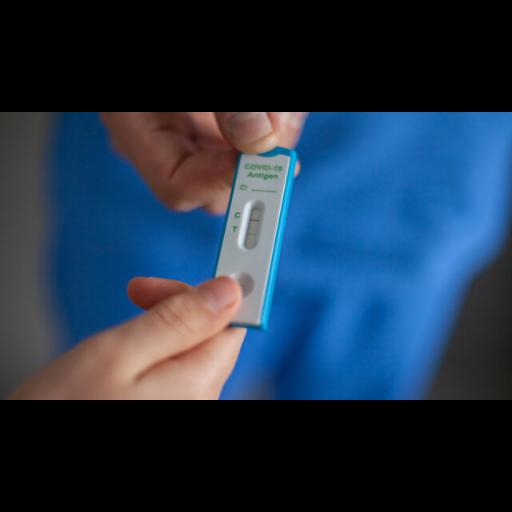Pos: (206, 145, 294, 326)
